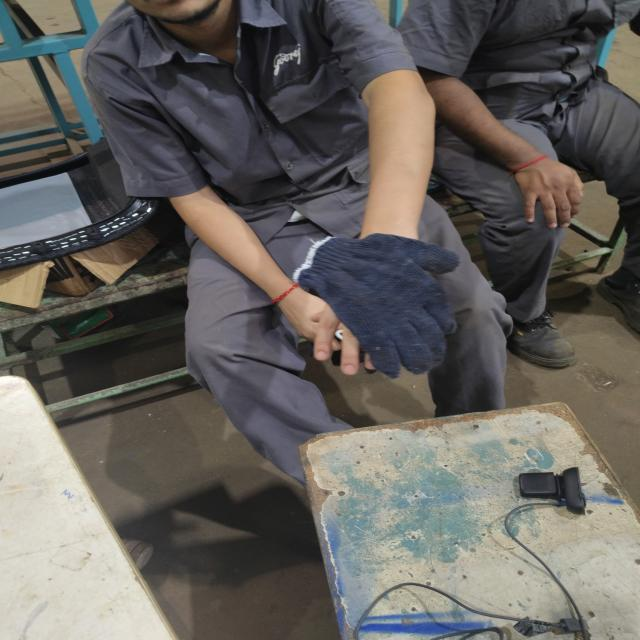Gloves-Detection: (312, 229, 448, 362)
